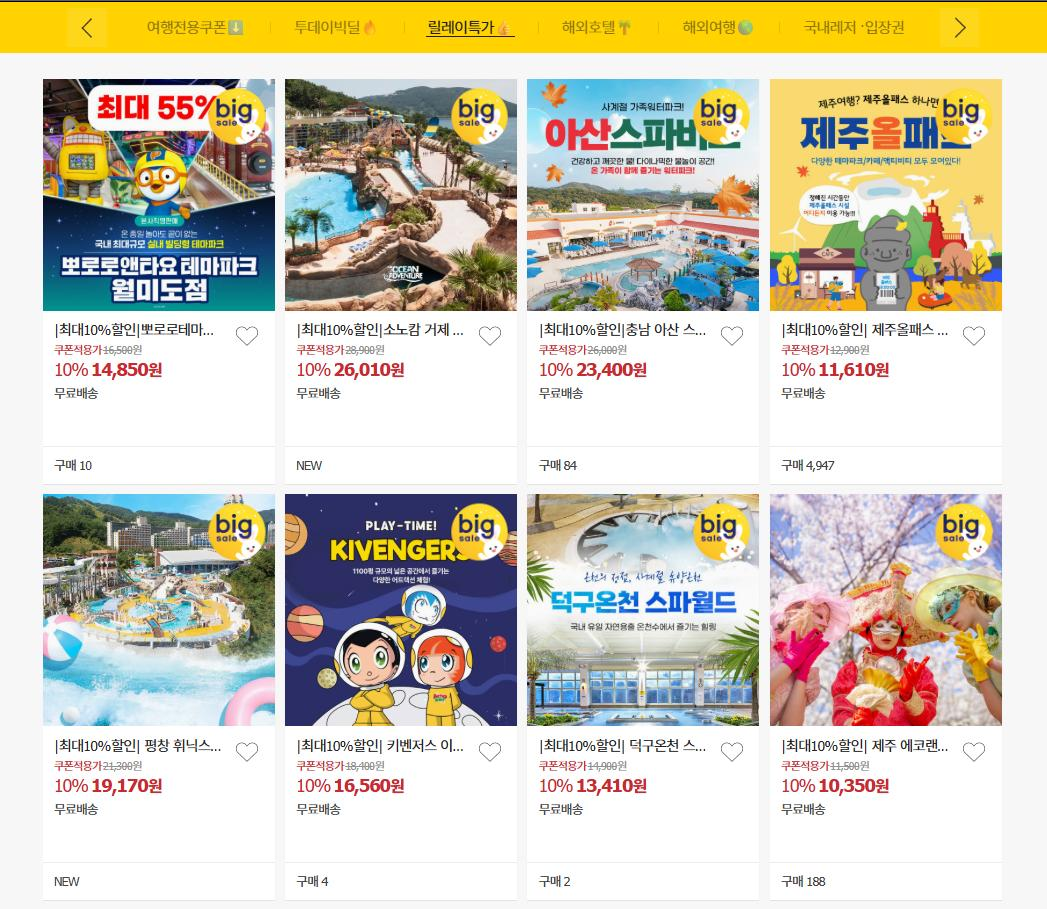button: (139, 13, 250, 44), (675, 12, 778, 40), (534, 7, 636, 35), (299, 13, 389, 42), (416, 10, 511, 36), (799, 18, 915, 38), (948, 13, 991, 42), (956, 323, 998, 349), (473, 734, 509, 764), (476, 325, 515, 349), (716, 740, 753, 765), (720, 323, 760, 346), (232, 322, 262, 350), (229, 741, 263, 763), (961, 738, 986, 761), (74, 18, 99, 40)
